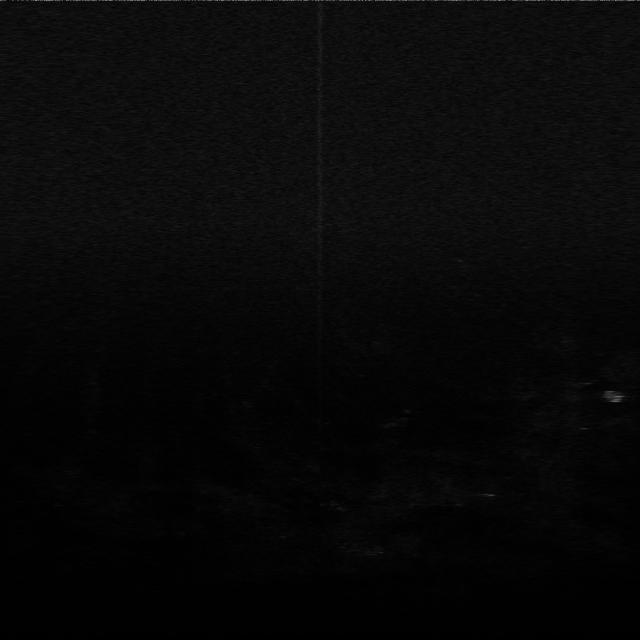rov: (601, 388, 627, 407)
